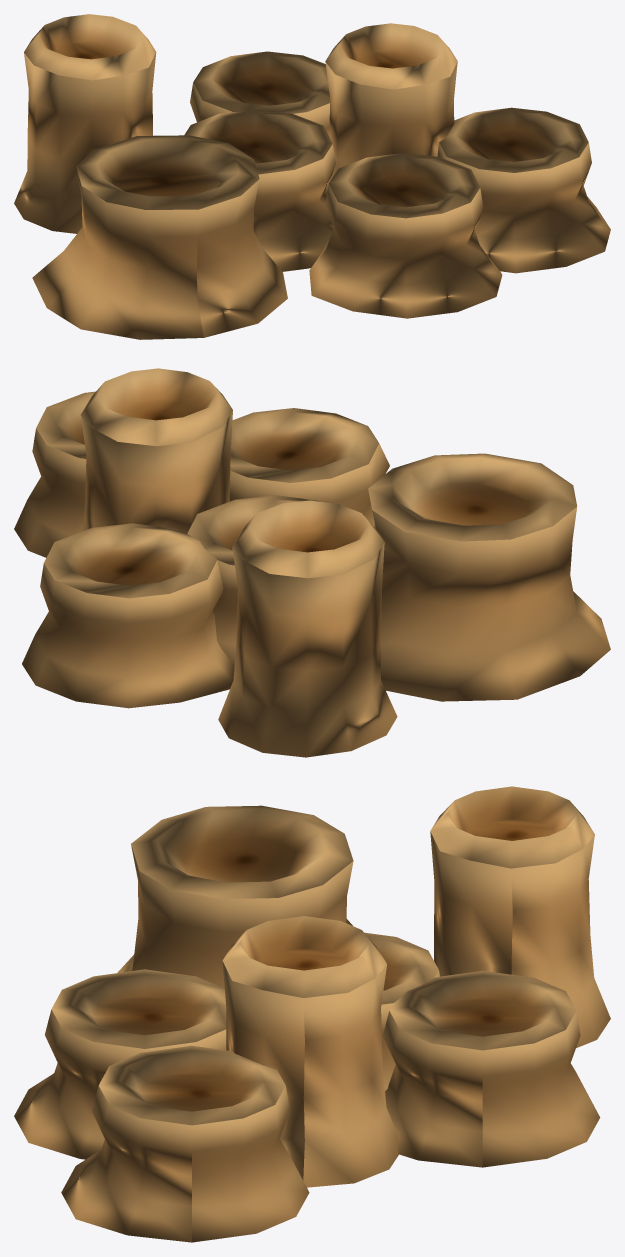
Rendered from FloorDeco1B-003_02_21_6502.fbx.
3 renders of one model, top to bottom at view 1: azimuth 30°, elevation 25°; view 2: azimuth 150°, elevation 25°; view 3: azimuth 270°, elevation 25°, orthographic. The views are drawn at different scales.
Parts seen in each view (by area): view 1: PropCandles1 (5), PropCandles1 (3), PropCandles1 (2), PropCandles1 (4), PropCandles1 (9), PropCandles1 (8), PropCandles1 (6); view 2: PropCandles1 (5), PropCandles1 (2), PropCandles1 (6), PropCandles1 (9), PropCandles1 (3), PropCandles1 (4), PropCandles1 (8); view 3: PropCandles1 (4), PropCandles1 (6), PropCandles1 (9), PropCandles1 (2), PropCandles1 (5), PropCandles1 (3), PropCandles1 (8).
Boxes of the visible parts, <box> form: PropCandles1 (5): <box>32,135,287,339</box>; PropCandles1 (3): <box>309,153,502,318</box>; PropCandles1 (2): <box>14,14,156,233</box>; PropCandles1 (4): <box>437,107,610,273</box>; PropCandles1 (9): <box>325,23,457,187</box>; PropCandles1 (8): <box>184,110,335,271</box>; PropCandles1 (6): <box>190,51,330,136</box>; PropCandles1 (5): <box>368,453,610,701</box>; PropCandles1 (2): <box>218,500,397,757</box>; PropCandles1 (6): <box>22,523,234,708</box>; PropCandles1 (9): <box>80,368,232,533</box>; PropCandles1 (3): <box>229,408,389,526</box>; PropCandles1 (4): <box>14,391,95,557</box>; PropCandles1 (8): <box>187,495,319,665</box>; PropCandles1 (4): <box>61,1045,309,1242</box>; PropCandles1 (6): <box>382,970,600,1167</box>; PropCandles1 (9): <box>222,916,398,1187</box>; PropCandles1 (2): <box>430,786,610,1047</box>; PropCandles1 (5): <box>117,805,353,988</box>; PropCandles1 (3): <box>14,969,226,1159</box>; PropCandles1 (8): <box>364,932,439,1090</box>.
Bounding box in the file's own units: 2.16 × 0.6714 × 1.77.
